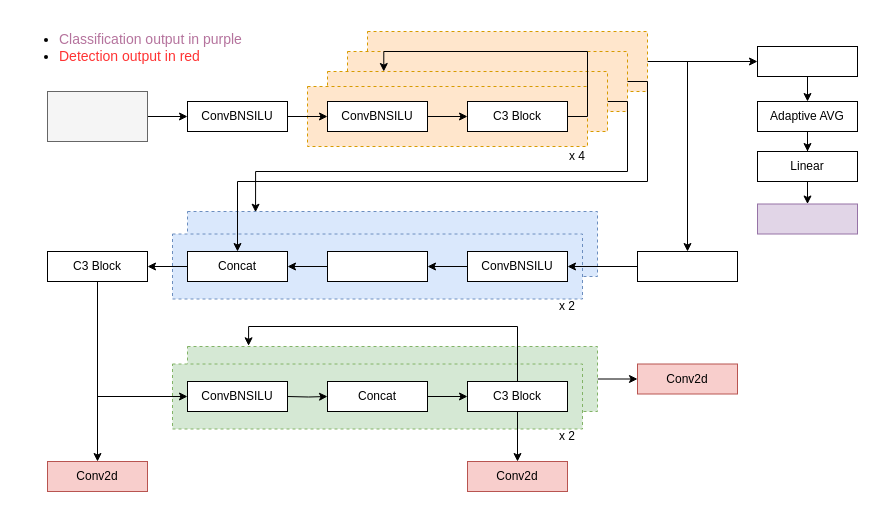
Image size: 875x510. Some labels were removed from this diagram. Here are the shapes that lost their labels. From the top down, the centre of each, then its label:
At point 807,61: "ConvSILU".
At point 97,116: "Image".
At point 807,218: "Softmax".
At point 377,266: "Upsample".
At point 687,266: "SPPF".
